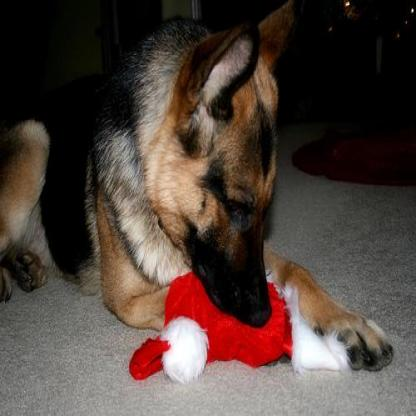dog: (0, 9, 396, 383)
